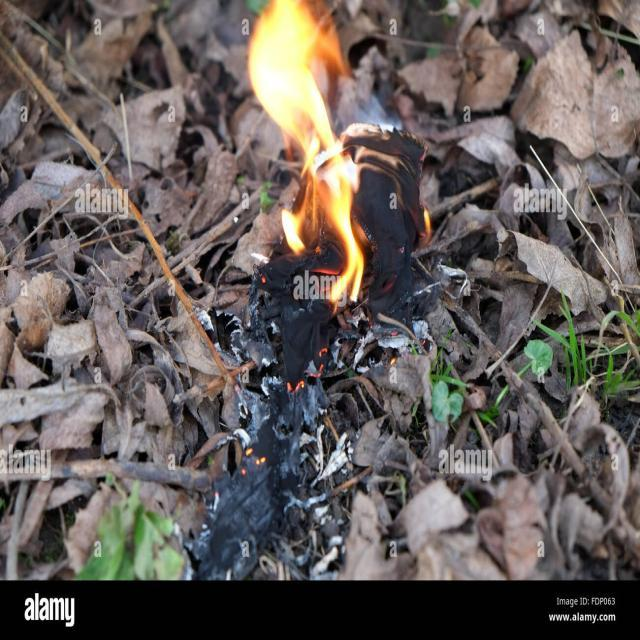Fire: (232, 11, 378, 310)
